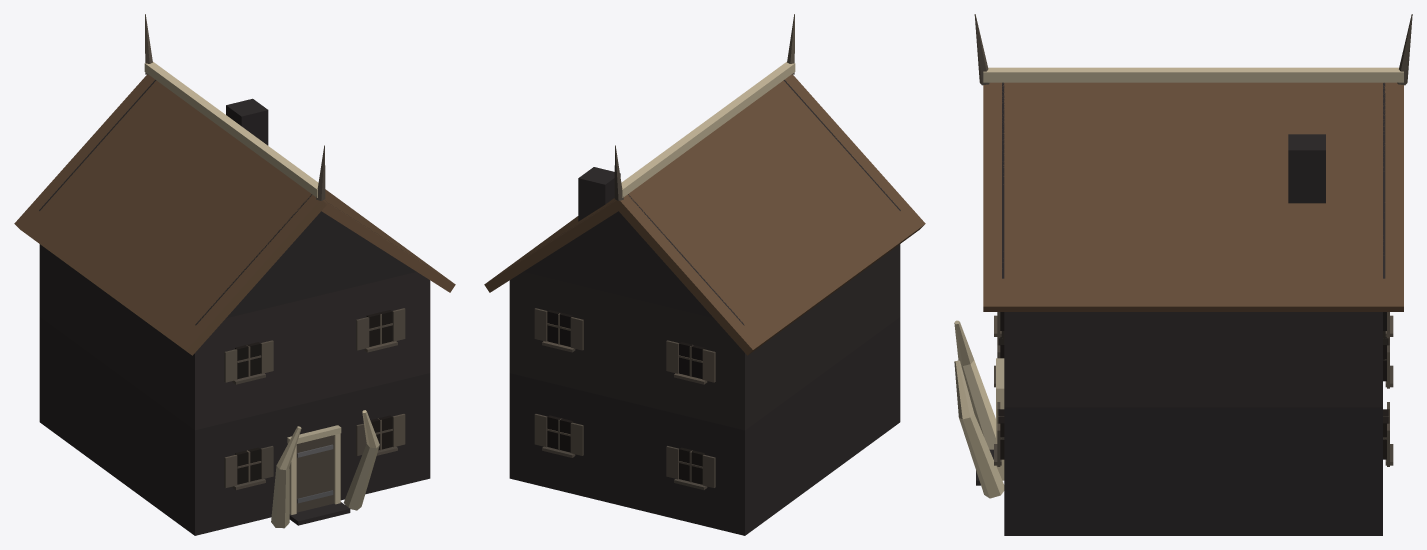
File: walk_ashen_tall.glb
3 views of the same model, side by side, from view 1: azimuth 30°, elevation 25°; view 2: azimuth 150°, elevation 25°; view 3: azimuth 270°, elevation 25° (orthographic). The views are drawn at different scales.
Parts seen in each view (by area): view 1: walk_ashen_tall, walk_ashen_tall_roof; view 2: walk_ashen_tall, walk_ashen_tall_roof; view 3: walk_ashen_tall_roof, walk_ashen_tall.
Part boxes in pixels (x1,y1,x2,y2): walk_ashen_tall: (39, 244, 430, 535); walk_ashen_tall_roof: (14, 14, 455, 355); walk_ashen_tall: (509, 244, 900, 535); walk_ashen_tall_roof: (484, 14, 925, 355); walk_ashen_tall_roof: (974, 14, 1412, 311); walk_ashen_tall: (954, 312, 1393, 535).
Size of what is drawn, in the model's own units: 8 by 10.71 by 9.69.
2 materials, 2 textured.
